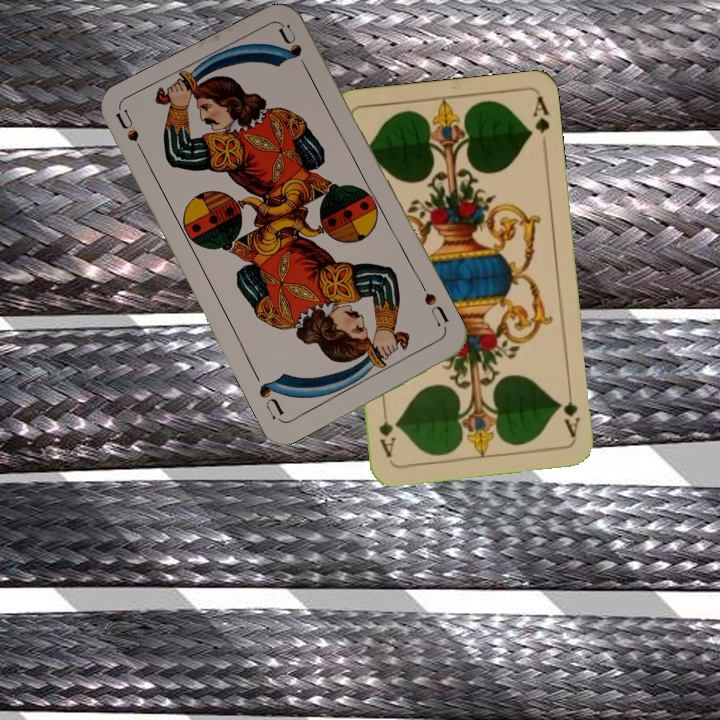GA: (554, 383, 583, 442)
SU: (112, 107, 150, 163), (420, 289, 451, 335)
